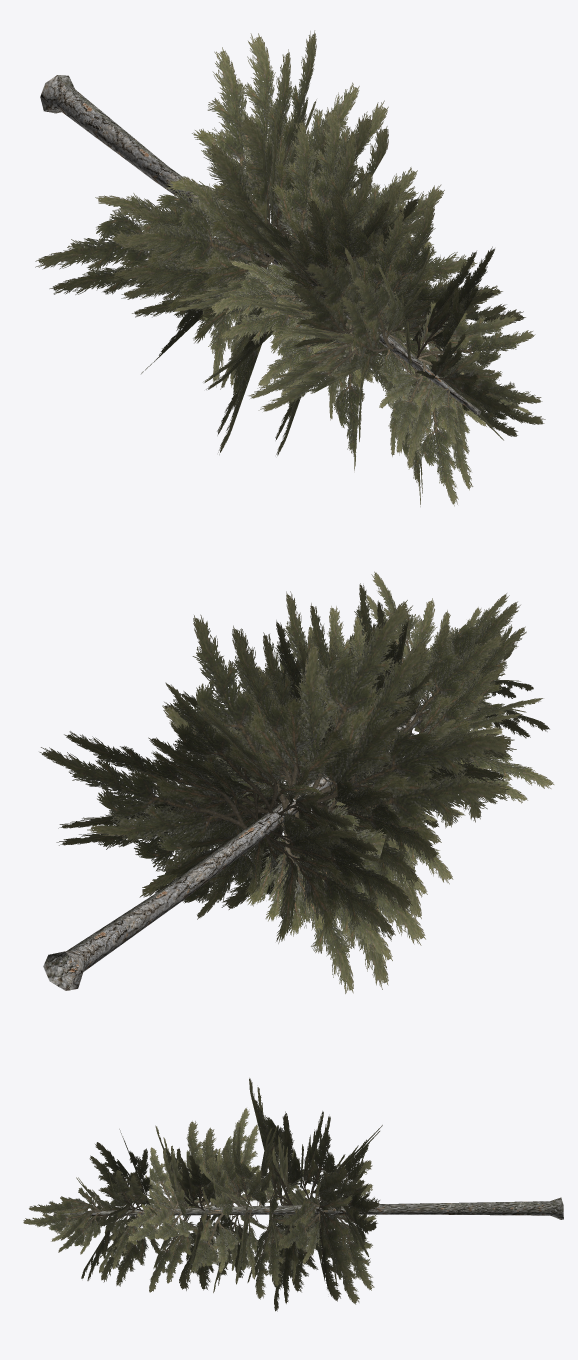
File: Дерево_акцентное_хвойное.gltf
The picture shows the model from 3 angles, top to bottom: view 1: azimuth 30°, elevation 25°; view 2: azimuth 150°, elevation 25°; view 3: azimuth 270°, elevation 25°; orthographic projection. The views are drawn at different scales.
Visible parts, largest first — view 1: Pine_s_1__Pine_s_1_Material_0; view 2: Pine_s_1__Pine_s_1_Material_0; view 3: Pine_s_1__Pine_s_1_Material_0.
Boxes of the visible parts, x1,y1,x2,y2 form: Pine_s_1__Pine_s_1_Material_0: (35,30,545,506); Pine_s_1__Pine_s_1_Material_0: (39,571,554,993); Pine_s_1__Pine_s_1_Material_0: (23,1078,563,1311).
Size of the model in its own units: 4.09 by 3.69 by 7.4.
Materials: 1 (1 with a texture image).
